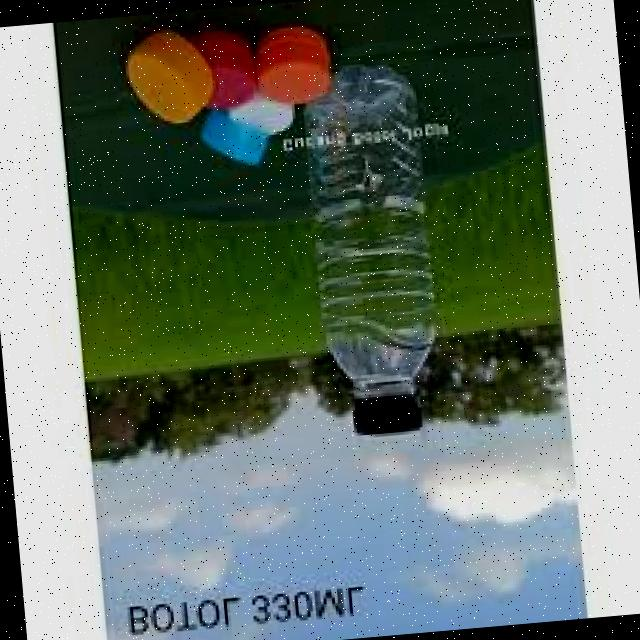bottle: (257, 51, 477, 485)
